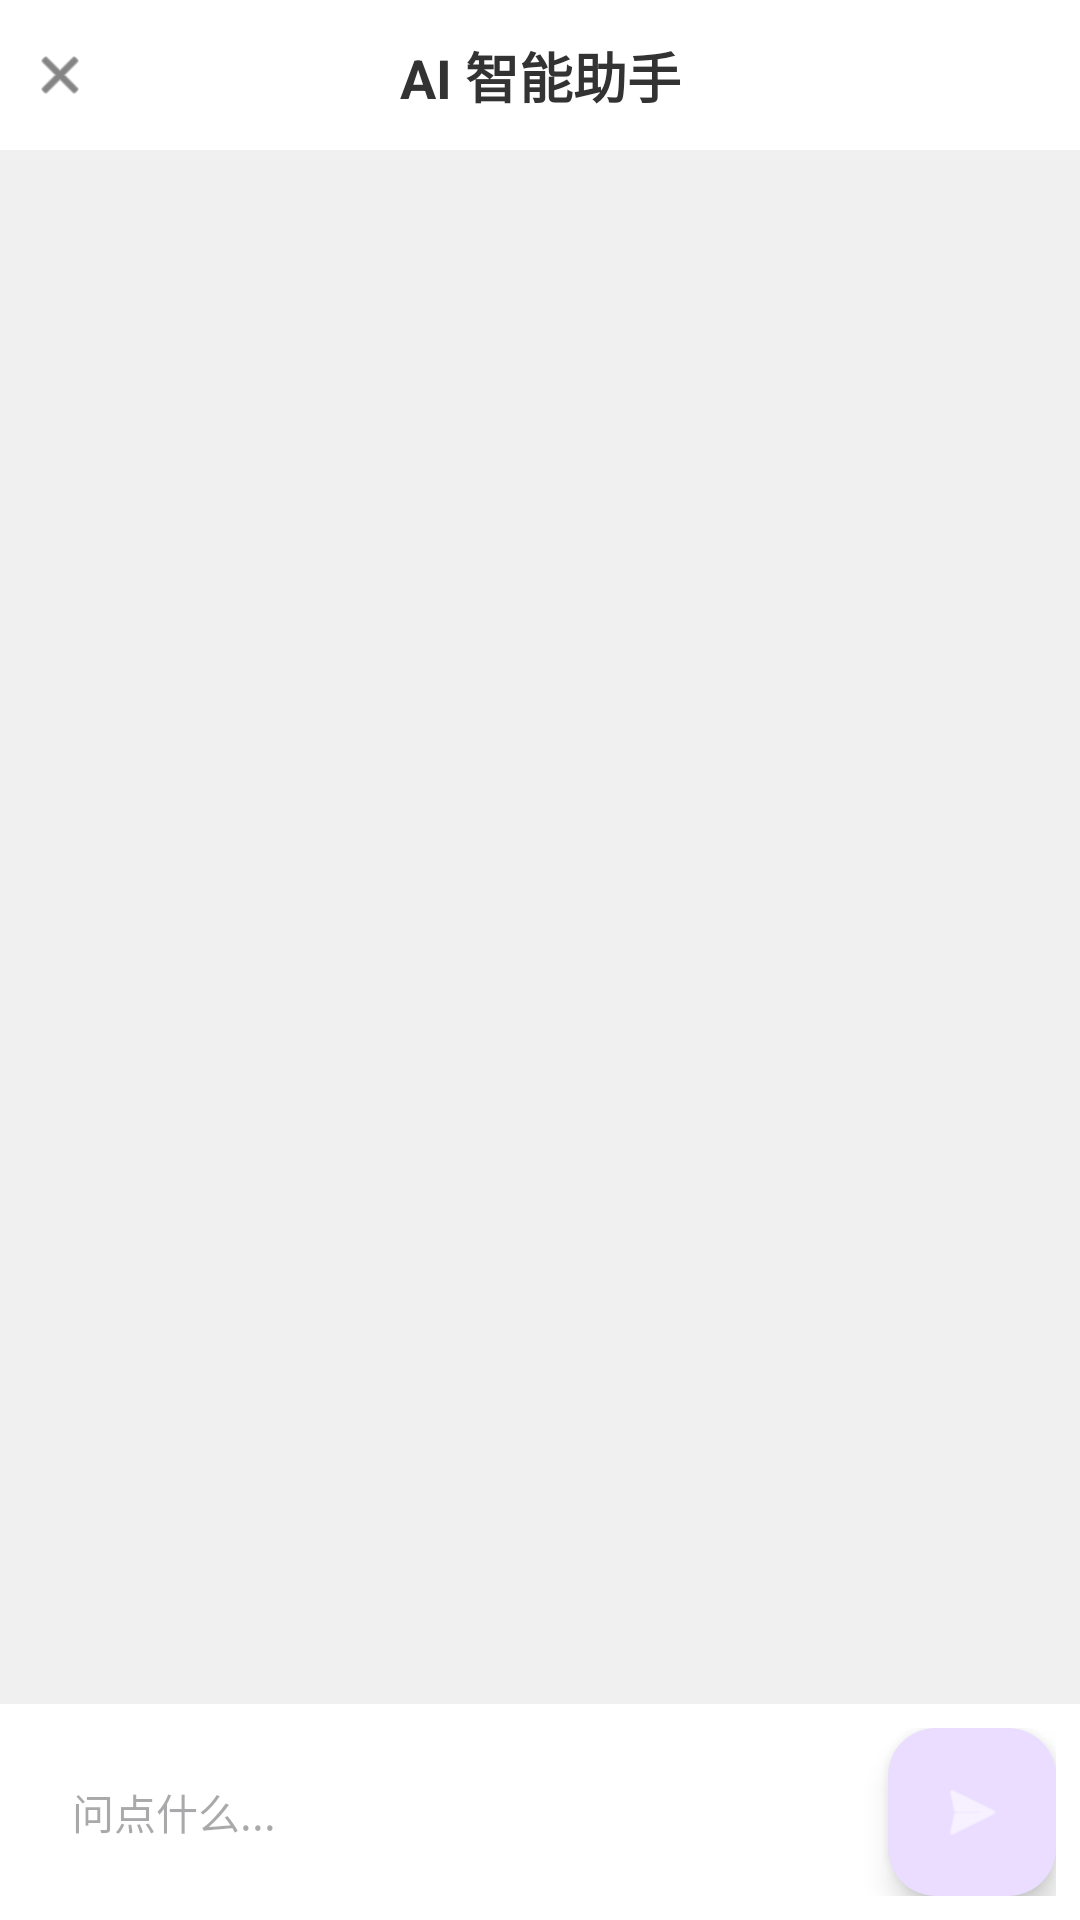

Icons on this 1080px x 1920px Android screen, each with its box as (x1, y1, x2, y2):
close clear cancel: (41, 56, 79, 94)
send: (888, 1728, 1056, 1896)
